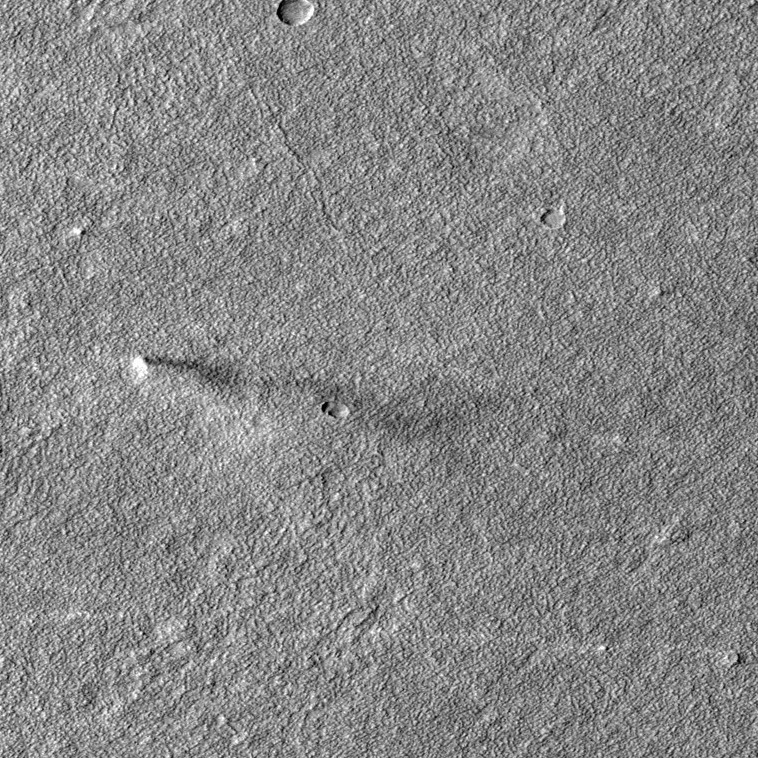dust_devil: (126, 347, 496, 444)
